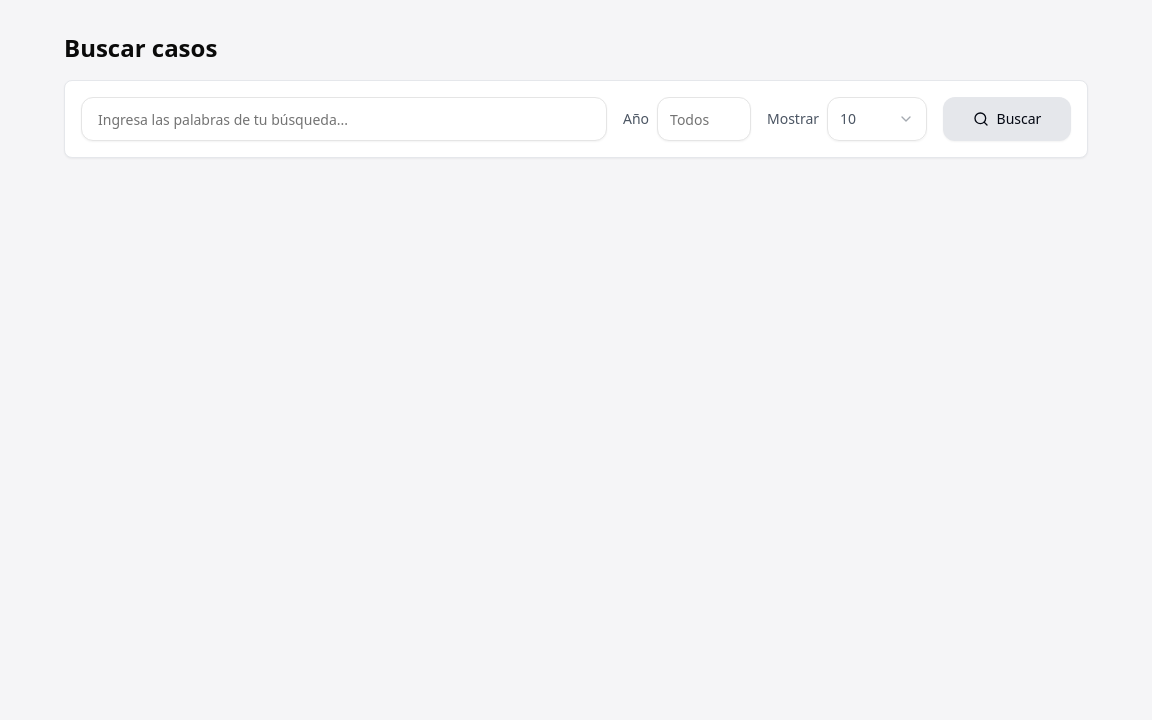
it: expands and collapses legal metadata details
The width and height of the screenshot is (1152, 720).
Type "libertad" into the search field with placeholder "Ingresa las palabras de tu búsqueda...".
click(344, 119); type("libertad")  # box x1=81 y1=97 x2=607 y2=141
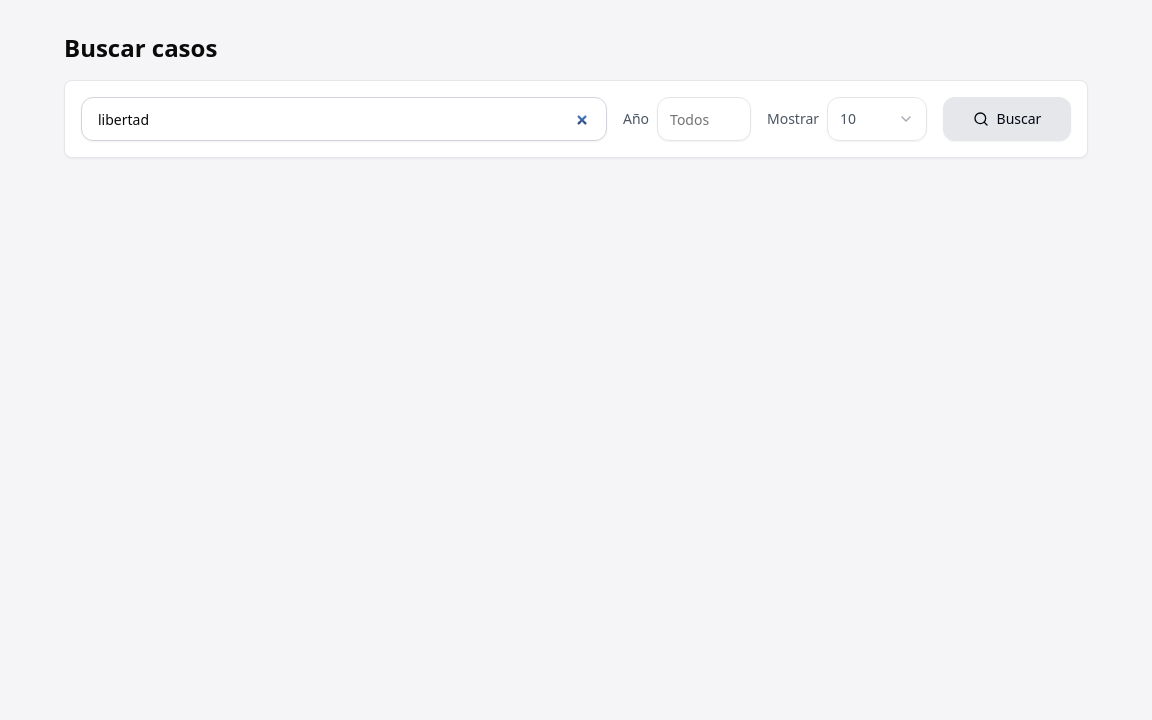
Click the button "Buscar".
click(1007, 119)  # box x1=943 y1=97 x2=1071 y2=141
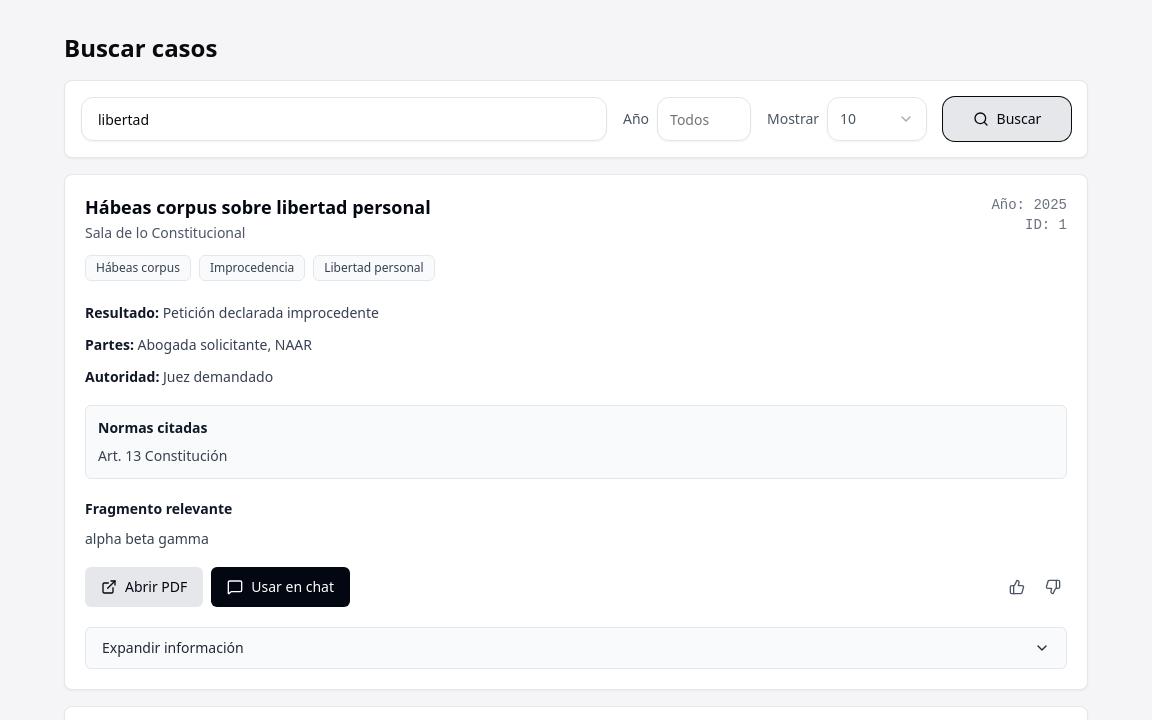
Click the button "Expandir información".
click(173, 648)  # box x1=85 y1=627 x2=1067 y2=669
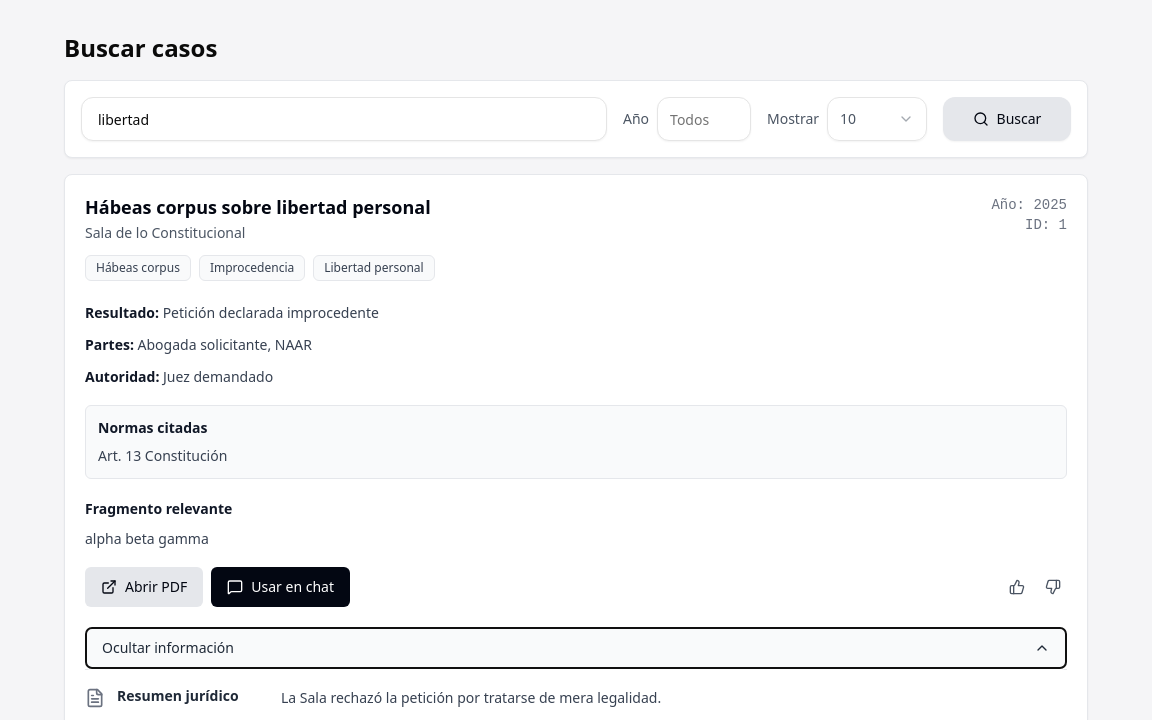
Expected: the text "Resumen jurídico" is shown, x1=117 y1=686 x2=239 y2=706
Click the button "Ocultar información".
click(168, 648)  # box x1=85 y1=627 x2=1067 y2=669
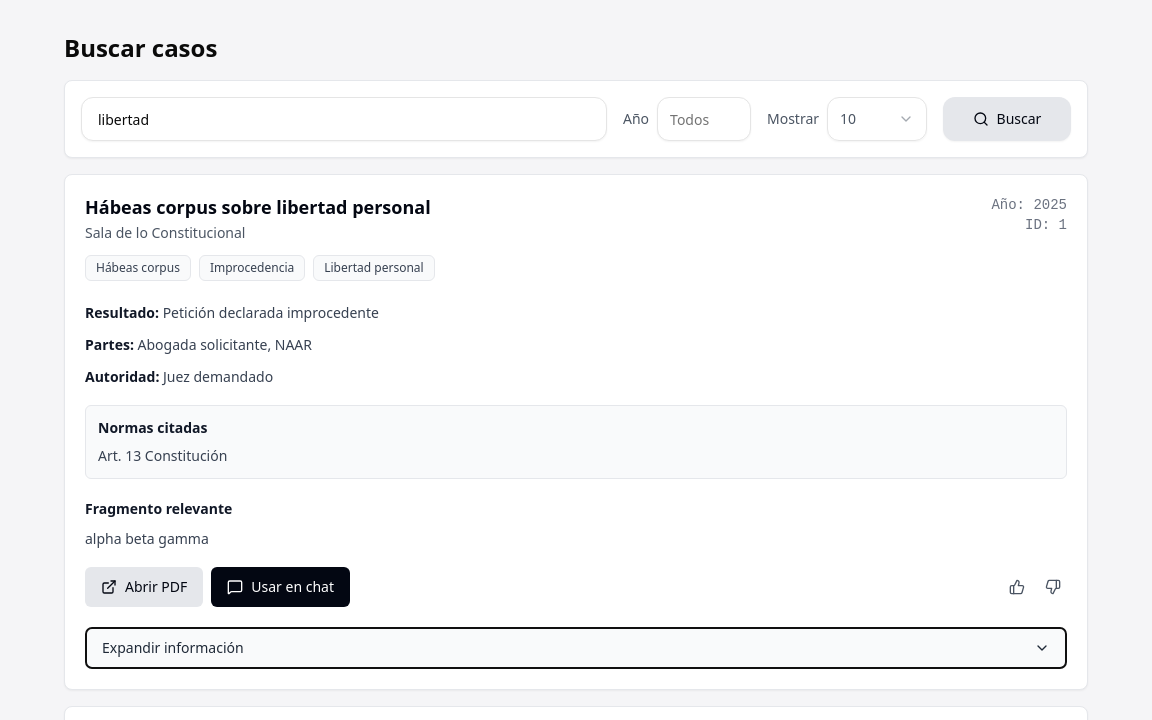
Expected: the text "Resumen jurídico" is gone
